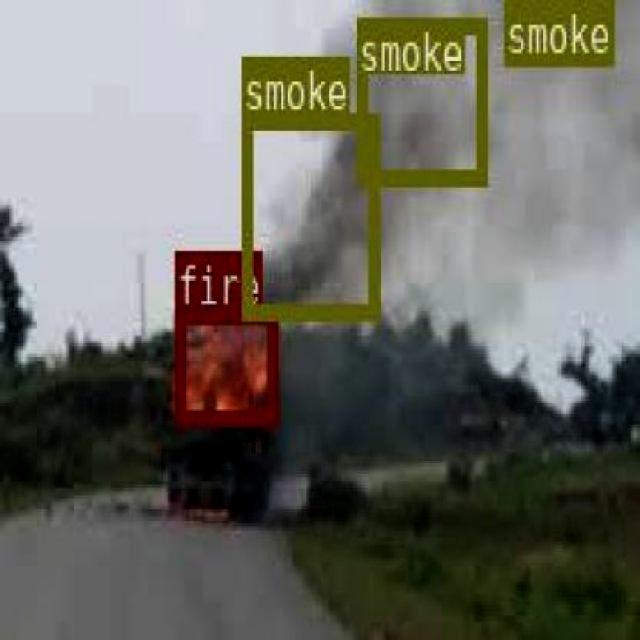fire: (173, 306, 275, 422)
smoke: (239, 112, 376, 314), (356, 15, 486, 184), (502, 0, 610, 63)
